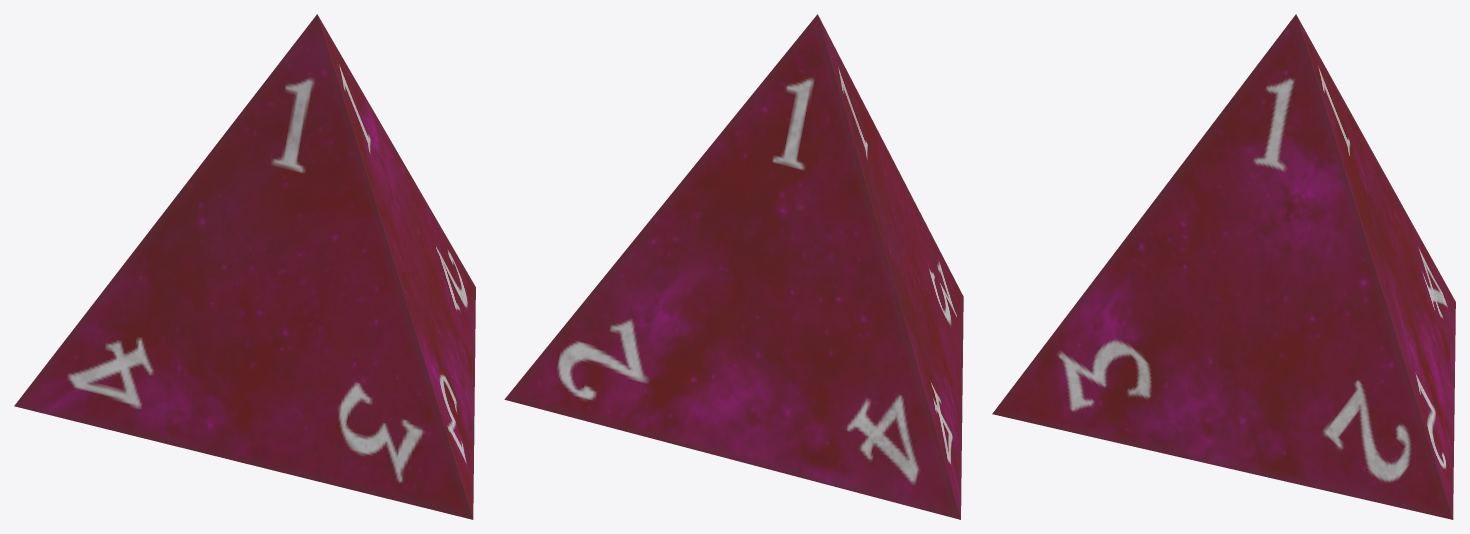
The picture shows the model from 3 angles, left to right: view 1: azimuth 30°, elevation 25°; view 2: azimuth 150°, elevation 25°; view 3: azimuth 270°, elevation 25°; orthographic projection.
Visible parts, largest first — view 1: d4; view 2: d4; view 3: d4.
Boxes of the visible parts, x1,y1,x2,y2 form: d4: (14,14,475,519); d4: (504,14,963,519); d4: (992,14,1455,519).
Bounding box in the file's own units: 0.9634 × 0.7921 × 0.8369.
1 material, 1 textured.
